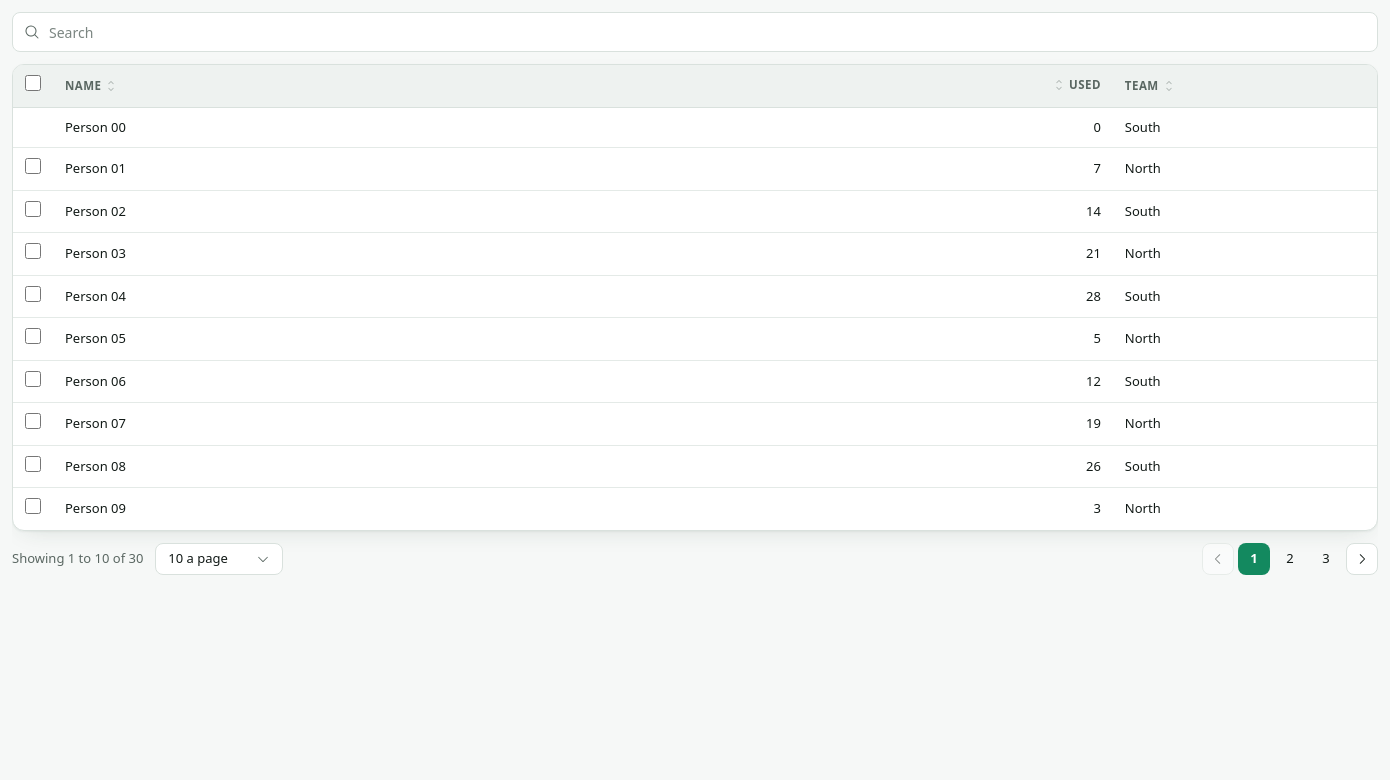
the table on a desktop › ticks one row or the whole page, and shows the bulk bar
The width and height of the screenshot is (1390, 780).
Click the checkbox named "Select Person 01" at point(33, 166), box x1=25 y1=158 x2=41 y2=174
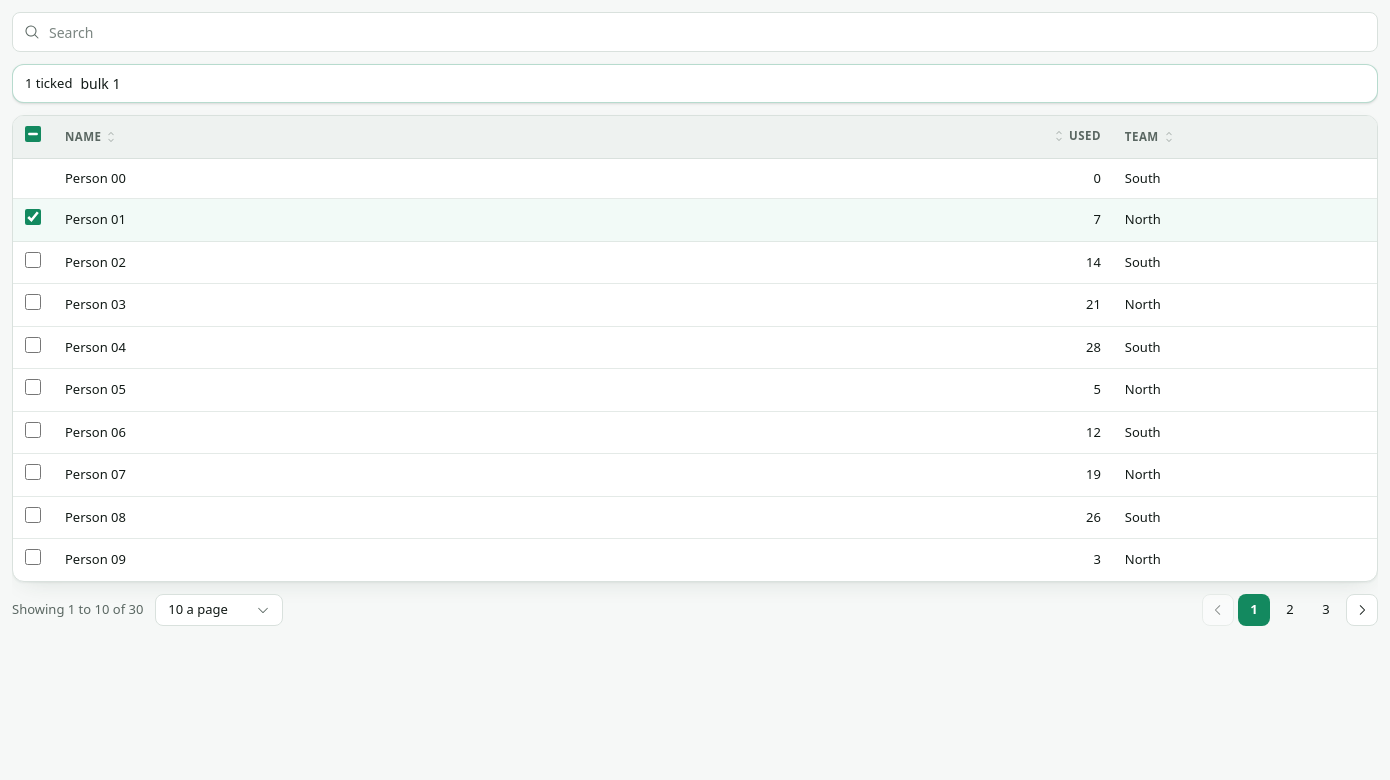
expect the text "bulk 1" is shown: met, box x1=80 y1=73 x2=120 y2=94
Click the checkbox named "Select every row on this page" at point(33, 134), box x1=25 y1=126 x2=41 y2=142
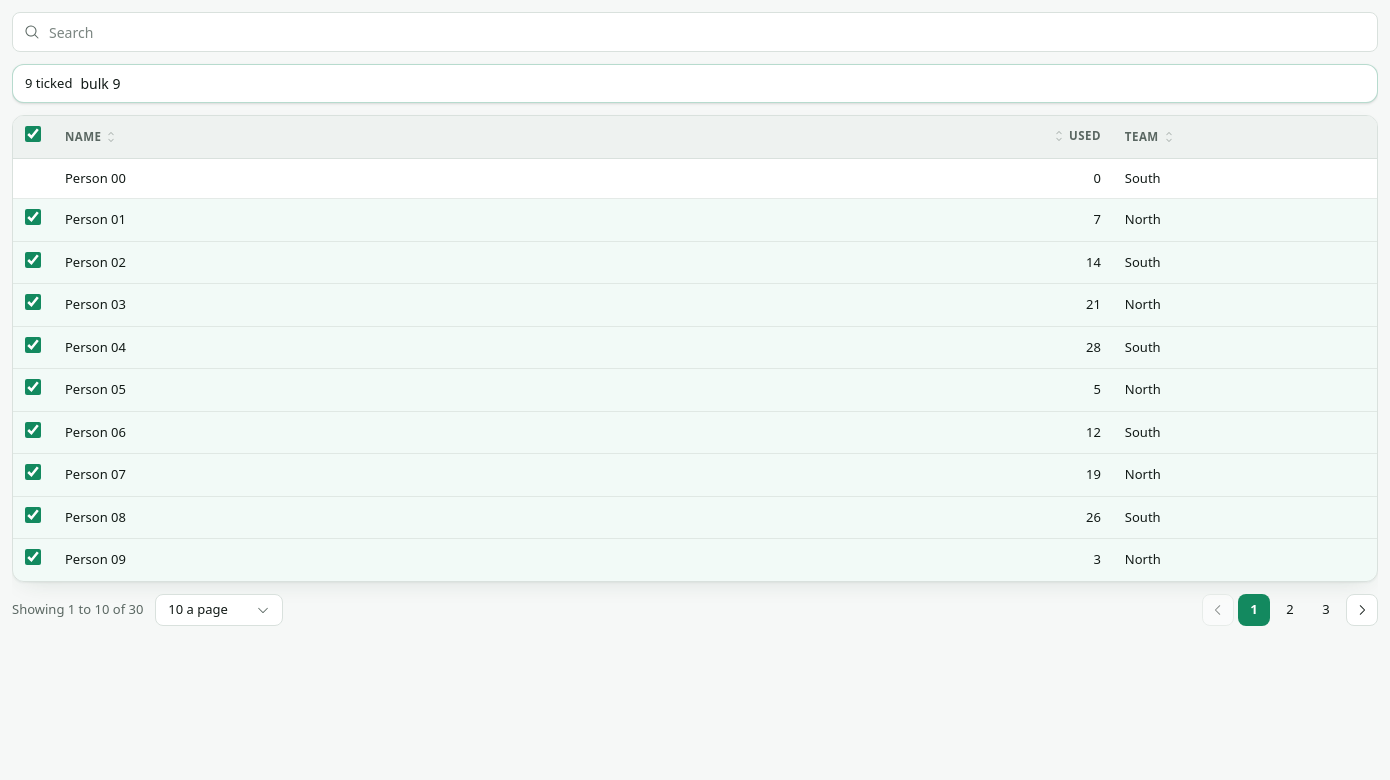
expect the text "bulk 9" is shown: met, box x1=80 y1=73 x2=120 y2=94
Click the checkbox named "Select every row on this page" at point(33, 134), box x1=25 y1=126 x2=41 y2=142
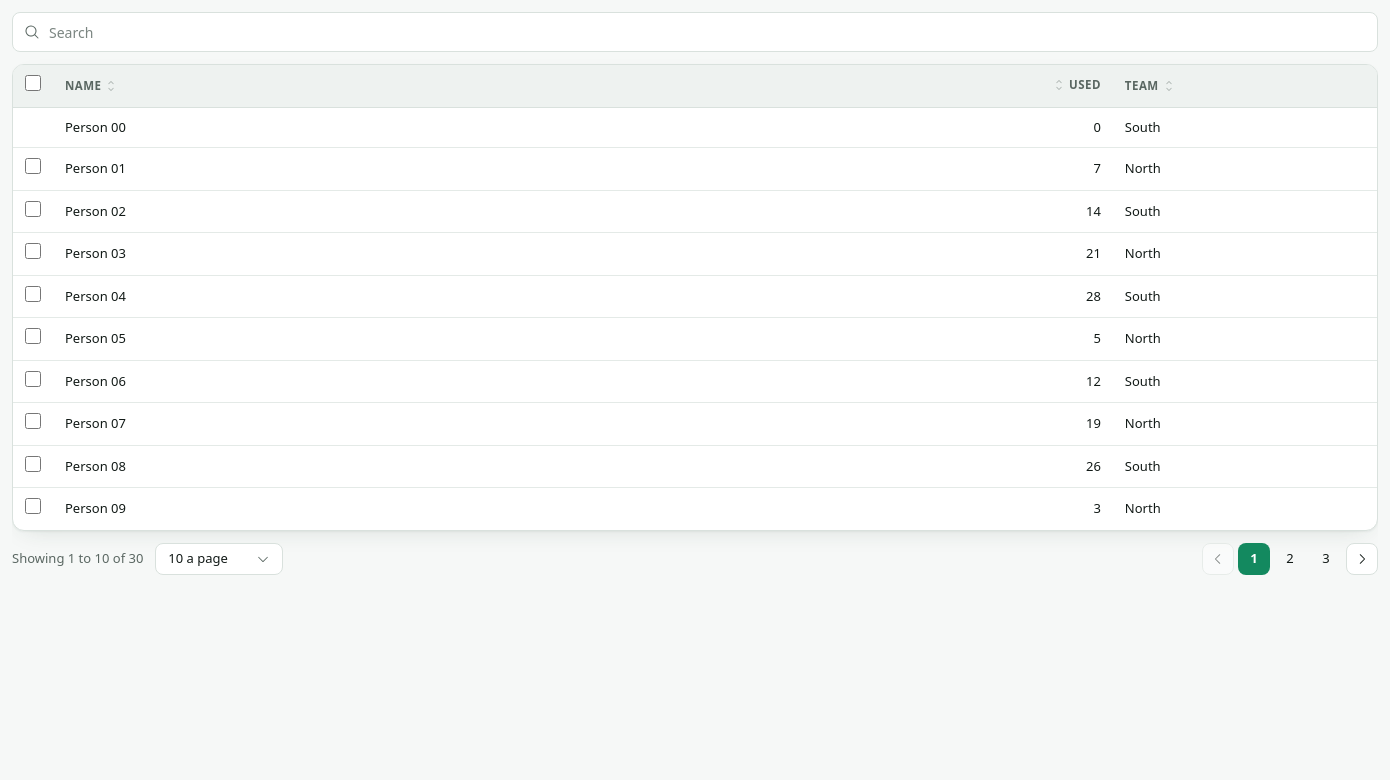
expect the text "bulk" is gone: met
